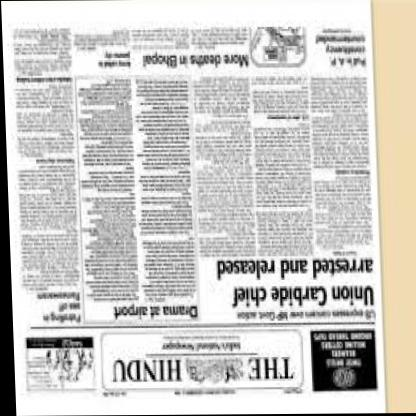Paper: (0, 0, 386, 408)
